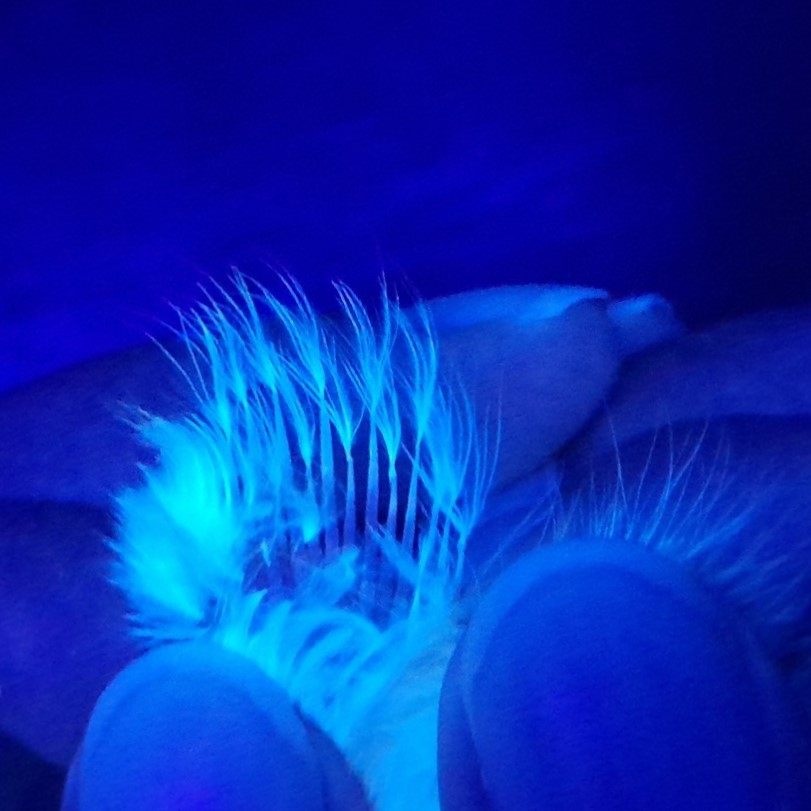male: (203, 379, 456, 650)
